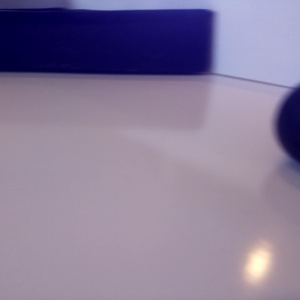zone: (1, 6, 212, 76)
